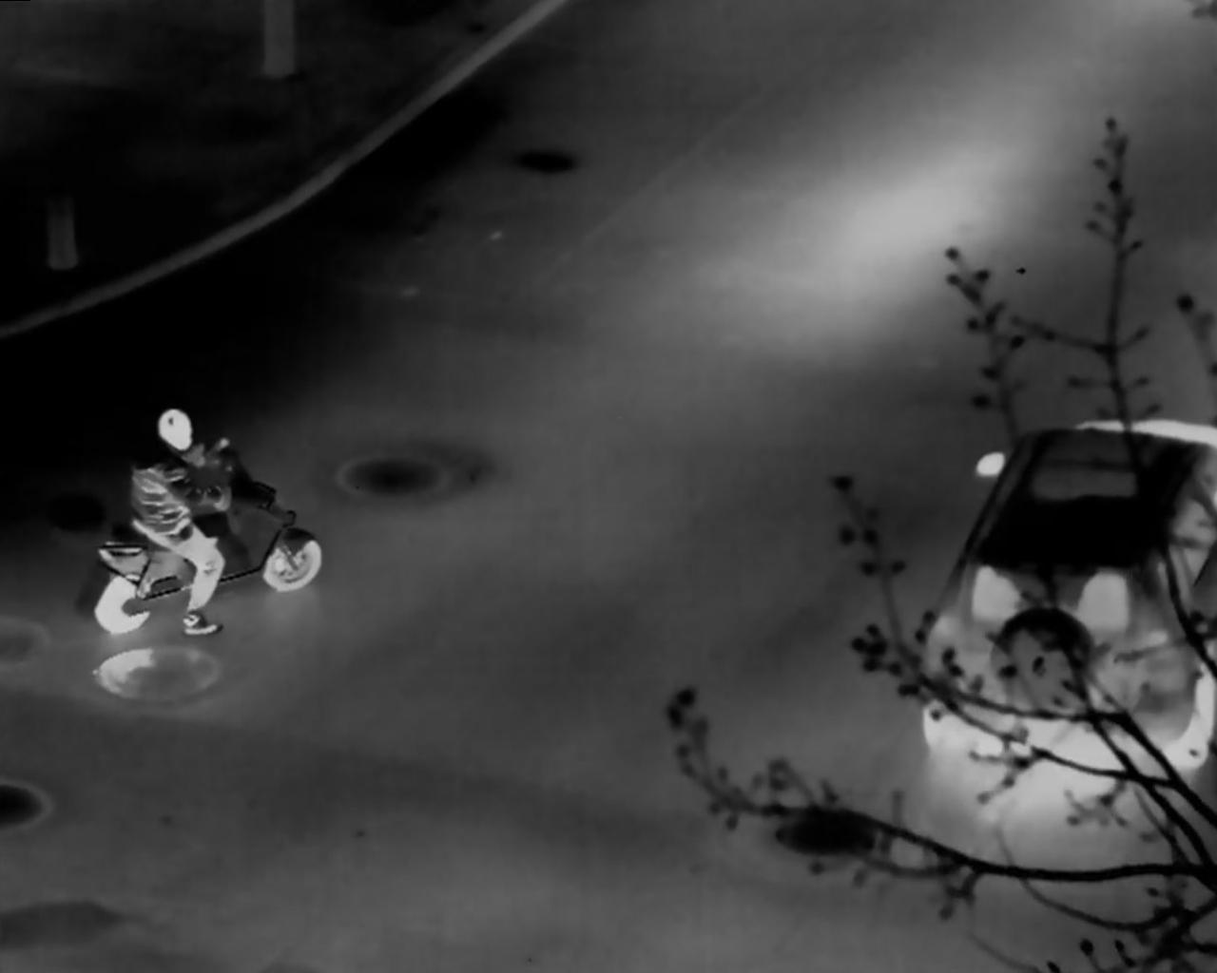person: (128, 408, 234, 639)
